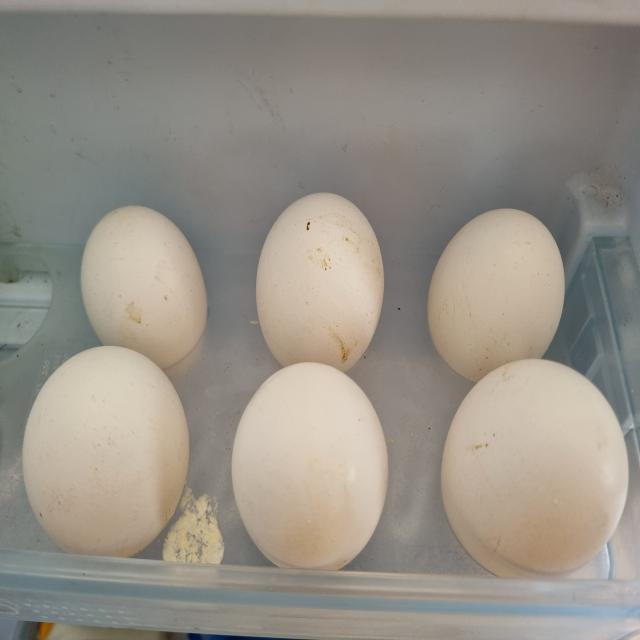Egg: (439, 358, 631, 581), (20, 344, 191, 560), (229, 359, 391, 573), (426, 208, 567, 385), (254, 192, 386, 375), (79, 206, 209, 372)
